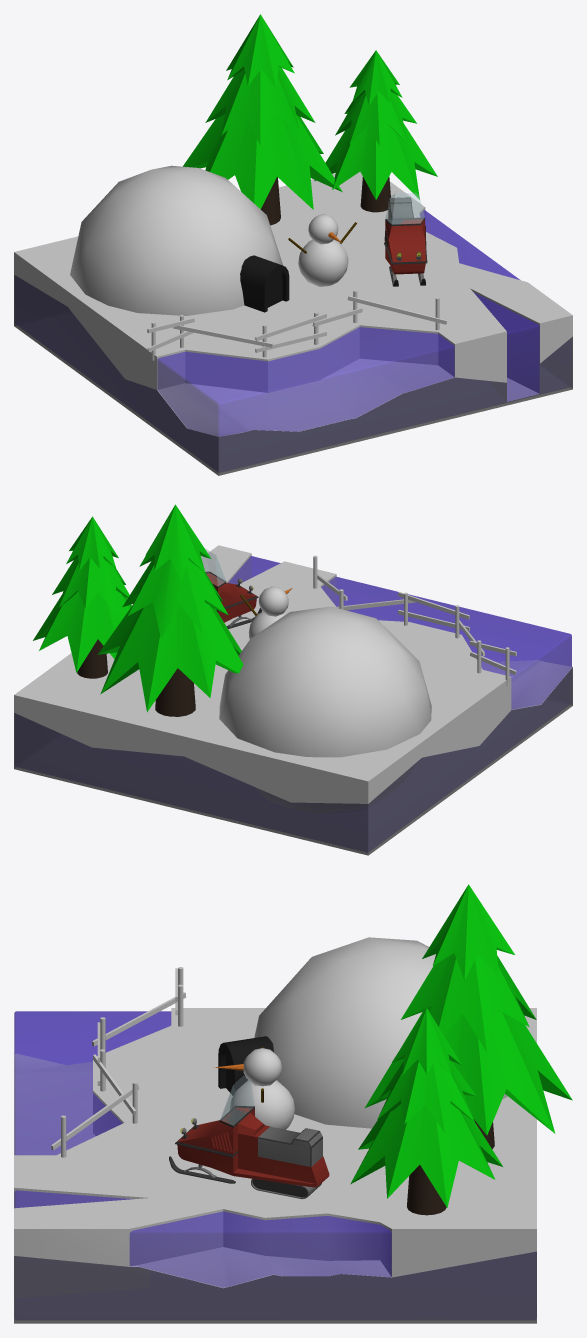
The model's file is winter.fbx.
3 views of the same model, one above another, from view 1: azimuth 30°, elevation 25°; view 2: azimuth 150°, elevation 25°; view 3: azimuth 270°, elevation 25° (orthographic). The views are drawn at different scales.
Parts seen in each view (by area): view 1: 바닥, 얼음바다, Sphere_3, 나뭇잎_2_2, 나뭇잎_2, 나뭇잎_1_2, 나뭇잎_1, 나뭇잎_2_3, Cylinder_4_2, Cube_2_6, Sphere_2, 나뭇잎 (+3 smaller); view 2: 바닥, 얼음바다, Sphere_3, 나뭇잎_2_2, 나뭇잎_1_2, 나뭇잎_2, 나뭇잎_2_3, 나뭇잎_1, 나무기둥_2, 나뭇잎, Cube_2_6, 나무기둥 (+2 smaller); view 3: 바닥, 얼음바다, Sphere_3, 나뭇잎_2_2, 나뭇잎_2, 나뭇잎_1_2, Cube_2_6, 나뭇잎_1, 나뭇잎_2_3, 나뭇잎, Cube_3, Sphere_2 (+7 smaller).
Part boxes in pixels (x1,y1,x2,y2): 바닥: [14, 171, 572, 475]; 얼음바다: [15, 210, 571, 472]; Sphere_3: [70, 165, 283, 315]; 나뭇잎_2_2: [183, 114, 342, 209]; 나뭇잎_2: [314, 123, 437, 199]; 나뭇잎_1_2: [205, 66, 315, 145]; 나뭇잎_1: [335, 91, 416, 145]; 나뭇잎_2_3: [226, 14, 294, 87]; Cylinder_4_2: [240, 255, 289, 312]; Cube_2_6: [384, 217, 427, 274]; Sphere_2: [298, 240, 348, 286]; 나뭇잎: [349, 50, 402, 105]; 바닥: [14, 545, 572, 855]; 얼음바다: [15, 556, 571, 851]; Sphere_3: [219, 606, 431, 757]; 나뭇잎_2_2: [98, 602, 243, 712]; 나뭇잎_1_2: [122, 559, 228, 638]; 나뭇잎_2: [33, 590, 131, 672]; 나뭇잎_2_3: [139, 504, 211, 581]; 나뭇잎_1: [52, 557, 129, 614]; 나무기둥_2: [155, 668, 195, 716]; 나뭇잎: [66, 516, 118, 570]; Cube_2_6: [206, 573, 258, 622]; 나무기둥: [77, 639, 107, 678]; 바닥: [14, 1008, 536, 1323]; 얼음바다: [14, 1011, 536, 1319]; Sphere_3: [254, 937, 507, 1128]; 나뭇잎_2_2: [365, 1008, 572, 1135]; 나뭇잎_2: [350, 1103, 502, 1207]; 나뭇잎_1_2: [401, 953, 536, 1051]; Cube_2_6: [175, 1107, 329, 1187]; 나뭇잎_1: [377, 1060, 475, 1132]; 나뭇잎_2_3: [422, 884, 514, 980]; 나뭇잎: [392, 1008, 461, 1075]; Cube_3: [258, 1127, 322, 1166]; Sphere_2: [230, 1080, 294, 1129].
Bounding box in the file's own units: 107 × 81.37 × 107.
